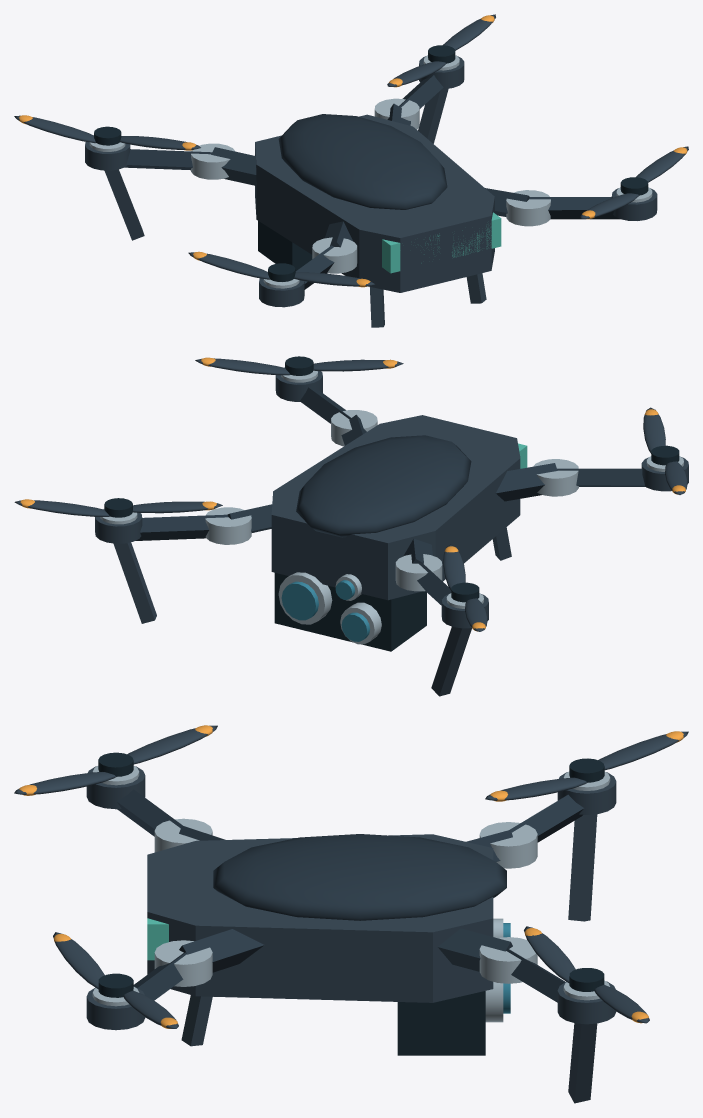
The model's file is dji-matrice-30t.glb.
The picture shows the model from 3 angles, top to bottom: view 1: azimuth 30°, elevation 25°; view 2: azimuth 150°, elevation 25°; view 3: azimuth 270°, elevation 25°; orthographic projection. The views are drawn at different scales.
Parts seen in each view (by area): view 1: part-frame-1, part-landing-gear-12, part-propeller-7, part-propeller-3, part-propeller-5, part-propeller-9, part-payload-13, part-motor-6, part-motor-2, part-motor-8, part-motor-4, part-battery-10 (+1 smaller); view 2: part-frame-1, part-payload-13, part-landing-gear-12, part-propeller-5, part-propeller-9, part-propeller-7, part-propeller-3, part-motor-4, part-motor-8, part-motor-2, part-motor-6; view 3: part-frame-1, part-payload-13, part-landing-gear-12, part-propeller-3, part-propeller-7, part-propeller-9, part-propeller-5, part-motor-8, part-motor-4, part-motor-2, part-motor-6, part-battery-11.
Part boxes in pixels (x1=…): part-frame-1: x1=125, y1=75, x2=619, y2=292; part-landing-gear-12: x1=104, y1=88, x2=486, y2=327; part-propeller-7: x1=188, y1=251, x2=374, y2=287; part-propeller-3: x1=14, y1=115, x2=200, y2=150; part-propeller-5: x1=387, y1=14, x2=495, y2=87; part-propeller-9: x1=580, y1=146, x2=688, y2=219; part-payload-13: x1=258, y1=221, x2=312, y2=270; part-motor-6: x1=259, y1=278, x2=304, y2=307; part-motor-2: x1=85, y1=142, x2=130, y2=170; part-motor-8: x1=611, y1=187, x2=657, y2=220; part-motor-4: x1=419, y1=55, x2=464, y2=89; part-battery-10: x1=382, y1=233, x2=439, y2=273; part-frame-1: x1=135, y1=387, x2=645, y2=605; part-payload-13: x1=274, y1=572, x2=426, y2=651; part-landing-gear-12: x1=113, y1=527, x2=511, y2=696; part-propeller-5: x1=14, y1=498, x2=222, y2=517; part-propeller-9: x1=195, y1=356, x2=403, y2=375; part-propeller-7: x1=643, y1=407, x2=687, y2=494; part-propeller-3: x1=443, y1=544, x2=487, y2=631; part-motor-4: x1=95, y1=509, x2=142, y2=543; part-motor-8: x1=275, y1=367, x2=322, y2=401; part-motor-2: x1=441, y1=593, x2=488, y2=628; part-motor-6: x1=641, y1=456, x2=688, y2=491; part-frame-1: x1=116, y1=789, x2=583, y2=1002; part-payload-13: x1=397, y1=918, x2=510, y2=1055; part-landing-gear-12: x1=181, y1=814, x2=597, y2=1103; part-propeller-3: x1=485, y1=731, x2=688, y2=801; part-propeller-7: x1=14, y1=725, x2=217, y2=795; part-propeller-9: x1=53, y1=932, x2=178, y2=1028; part-propeller-5: x1=524, y1=926, x2=649, y2=1023; part-motor-8: x1=86, y1=987, x2=145, y2=1030; part-motor-4: x1=557, y1=980, x2=615, y2=1024; part-motor-2: x1=557, y1=771, x2=616, y2=814; part-motor-6: x1=86, y1=766, x2=145, y2=809; part-battery-11: x1=147, y1=918, x2=168, y2=960.
Size of the model in its own units: 4.15 by 1.06 by 3.9.
